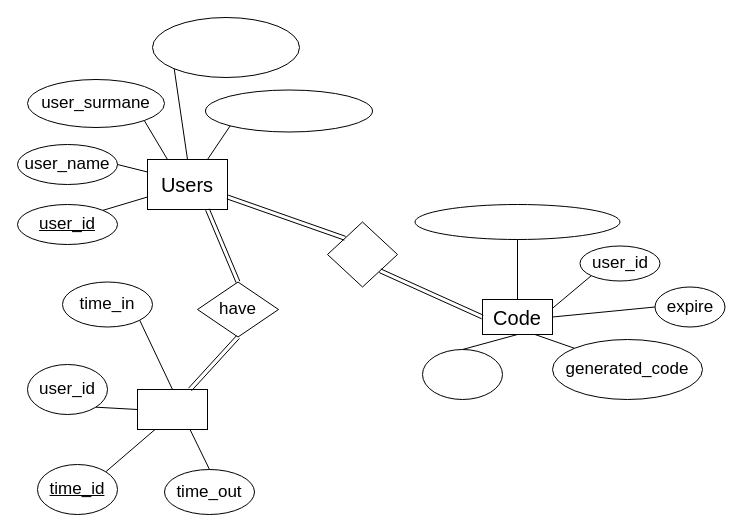
Image size: 743x532. Some labels were removed from this diagram. Each missing label, with the centre of its shape:
"code_id" belongs at point 462,374.
"got" belongs at point 362,254.
"Time" belongs at point 172,409.
"time_of_generate" belongs at point 517,222.
"user_exit_password" belongs at point 288,110.
"user_fingerprint" belongs at point 226,47.
